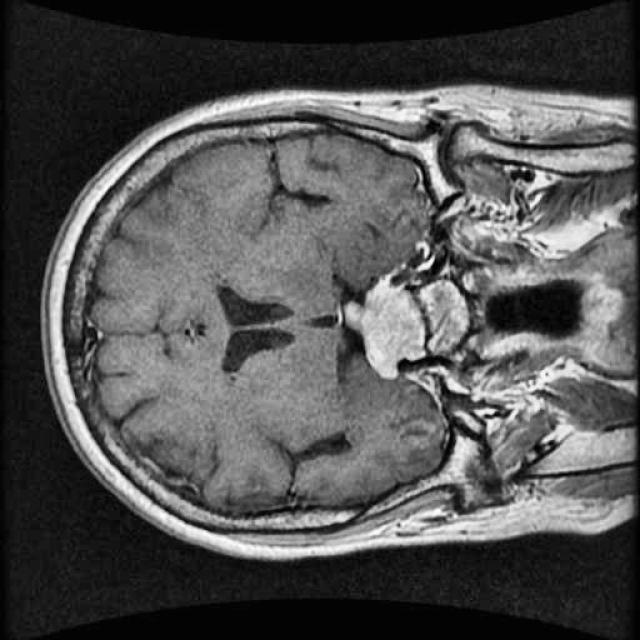Tumor: (331, 261, 445, 390)
